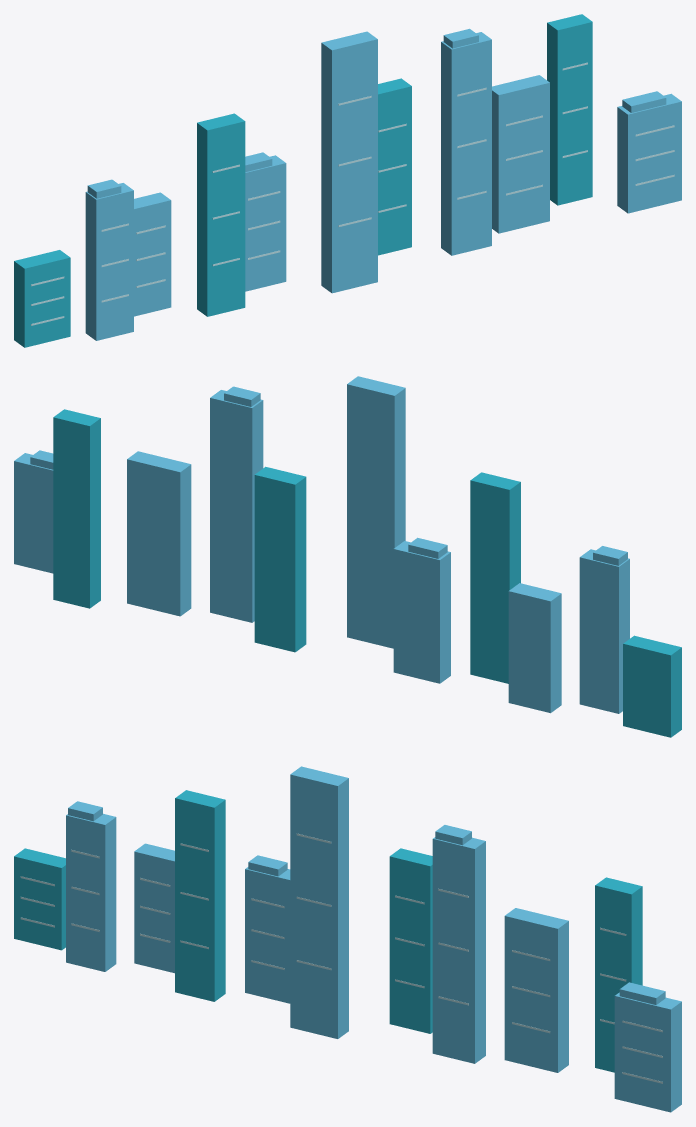
The model's file is city_backdrop.glb.
3 renders of one model, top to bottom at view 1: azimuth 30°, elevation 25°; view 2: azimuth 150°, elevation 25°; view 3: azimuth 330°, elevation 25°, orthographic. The views are drawn at different scales.
Parts seen in each view (by area): view 1: Aero_city_backdrop; view 2: Aero_city_backdrop; view 3: Aero_city_backdrop.
Part boxes in pixels (x1,y1,x2,y2): Aero_city_backdrop: (14, 14, 681, 347); Aero_city_backdrop: (14, 376, 681, 737); Aero_city_backdrop: (14, 766, 681, 1112).
Size of the model in its own units: 23.85 by 8.6 by 2.84.
Materials: 2 (2 with a texture image).
